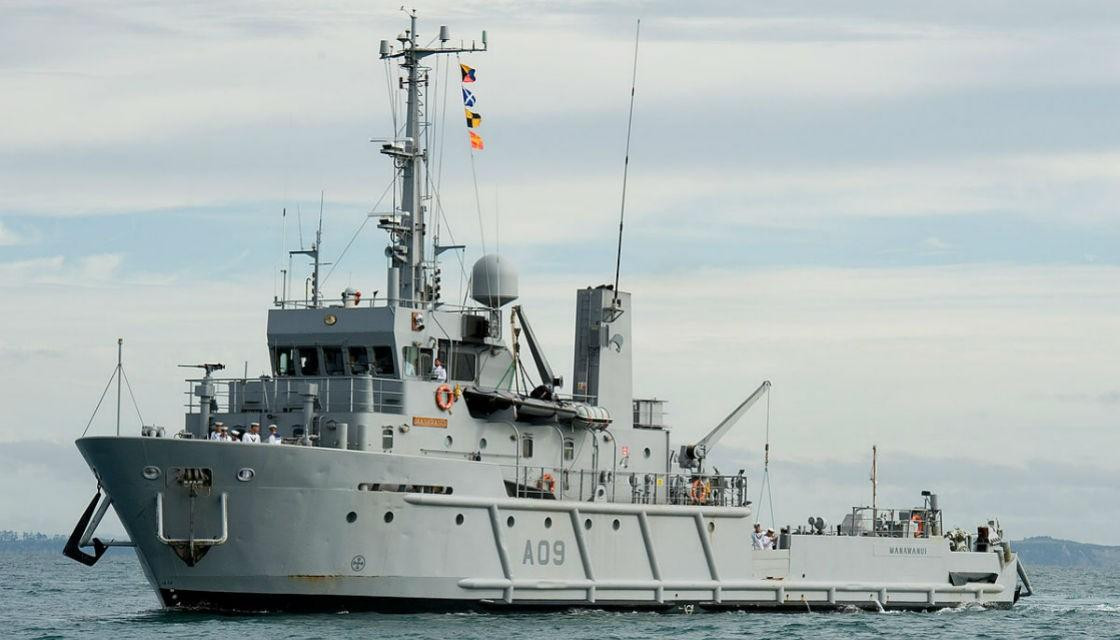warship: (66, 2, 1022, 613)
